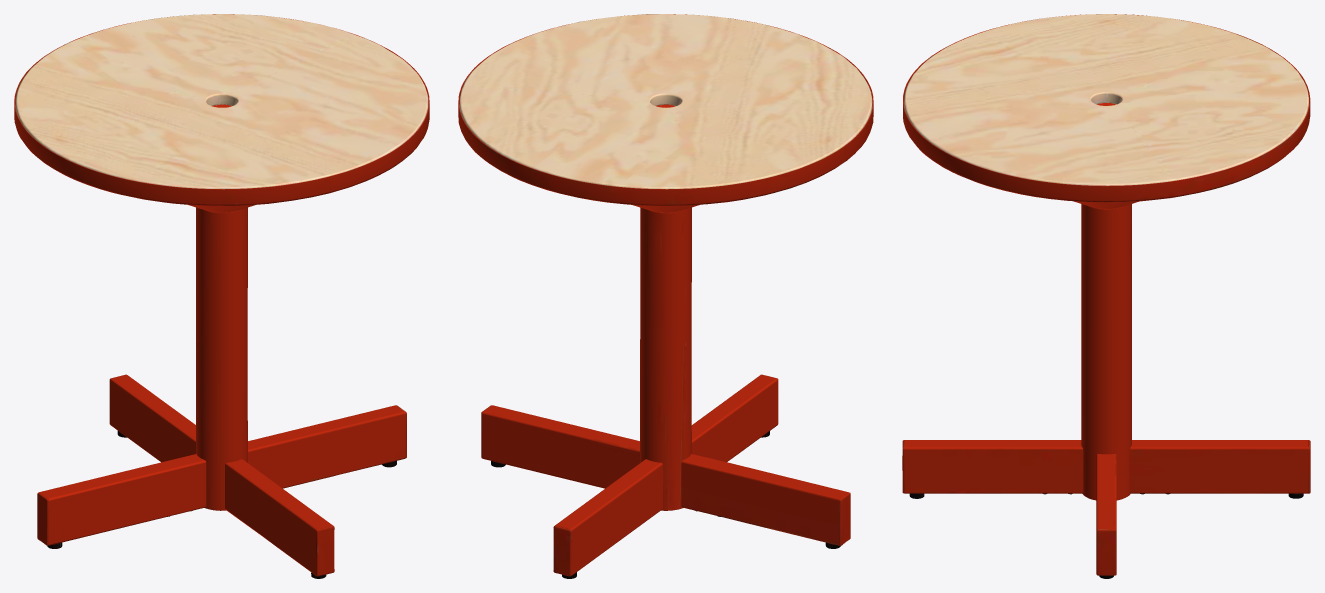
3 views of the same model, side by side, from view 1: azimuth 30°, elevation 25°; view 2: azimuth 150°, elevation 25°; view 3: azimuth 270°, elevation 25° (orthographic).
Visible parts, largest first — view 1: ASY_ART_50606167_S01_NV01; view 2: ASY_ART_50606167_S01_NV01; view 3: ASY_ART_50606167_S01_NV01.
Boxes of the visible parts, x1=… form: ASY_ART_50606167_S01_NV01: x1=14, y1=14, x2=429, y2=578; ASY_ART_50606167_S01_NV01: x1=458, y1=14, x2=873, y2=578; ASY_ART_50606167_S01_NV01: x1=902, y1=14, x2=1310, y2=578.
Size of the model in its own units: 0.4008 by 0.43 by 0.4008.
1 material, 1 textured.
